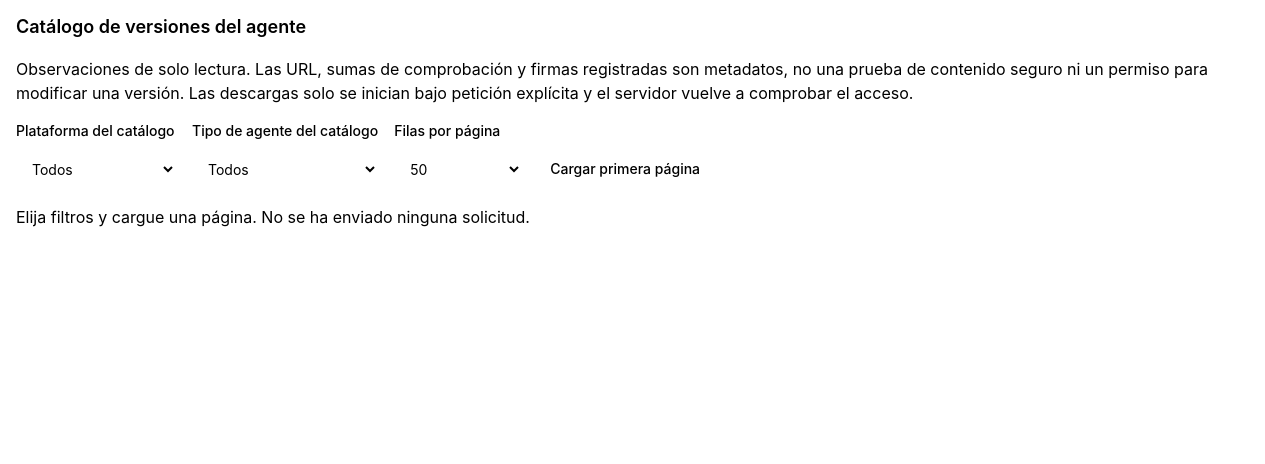
Test case: uses complete es labels and renders an empty validated page
The image size is (1265, 464).
Check: the heading "Catálogo de versiones del agente" is shown, box [16,16,306,37]
Step 1. Click the button "Cargar primera página" → (625, 169), box [538,149,712,189]
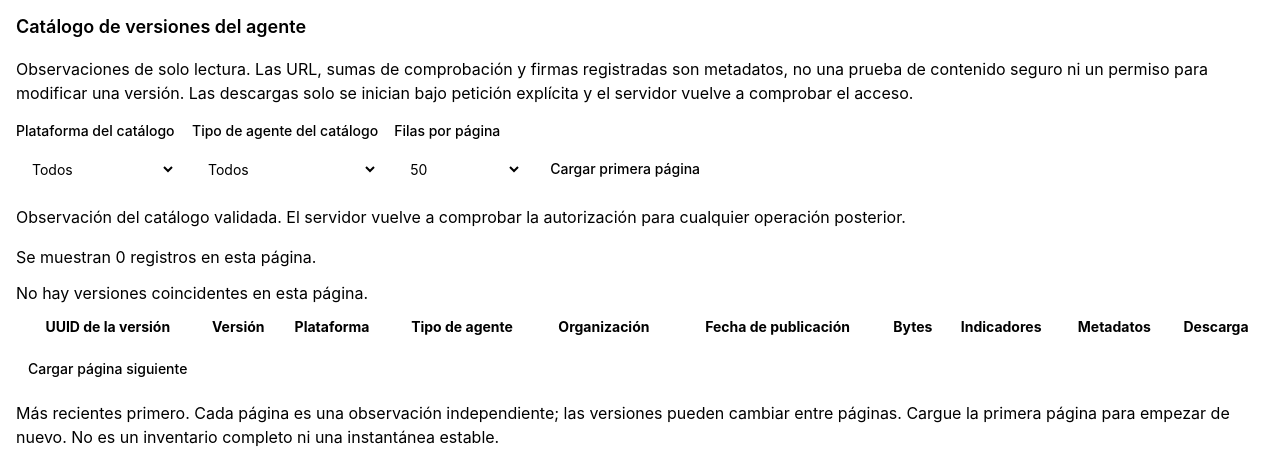
Check: the text "No hay versiones coincidentes en esta página." is shown, box [16,283,368,303]
Check: the button "Cargar página siguiente" is disabled, box [16,349,199,389]
